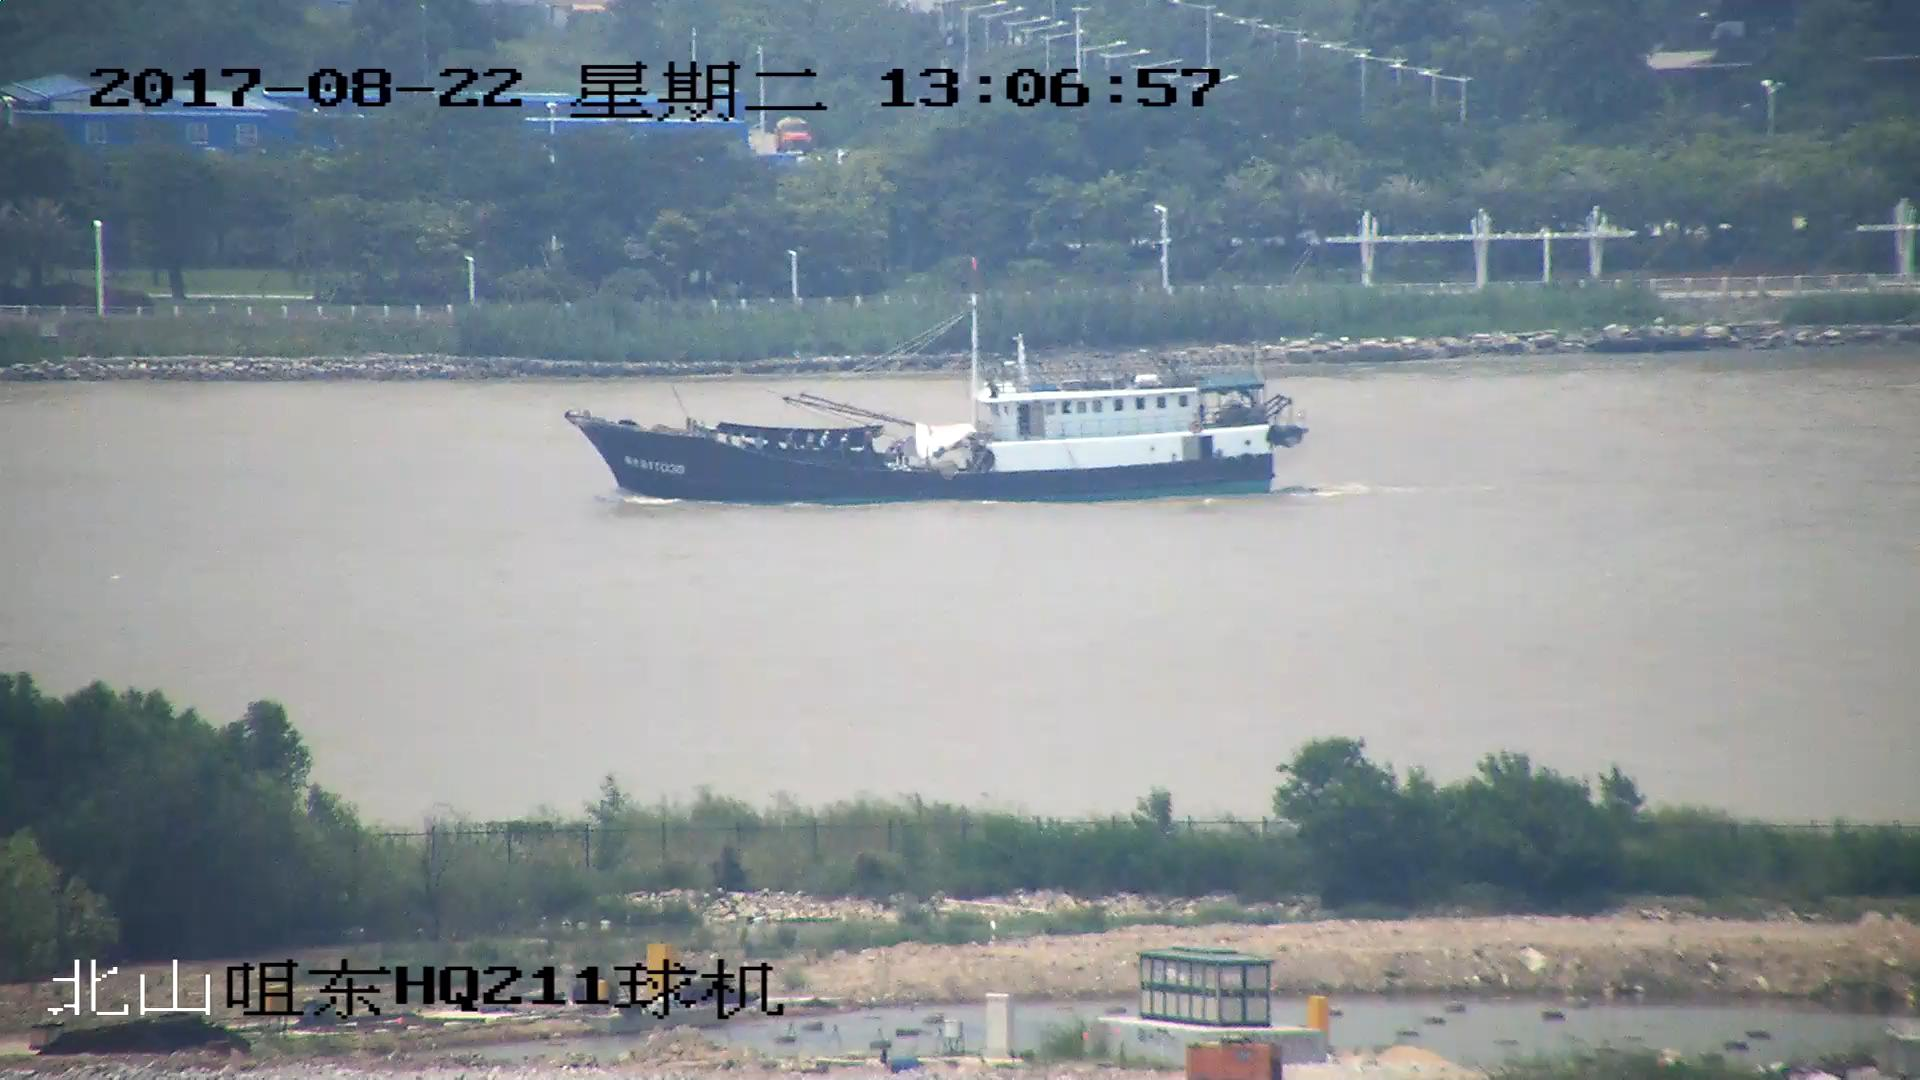fishing boat: (571, 305, 1313, 510)
